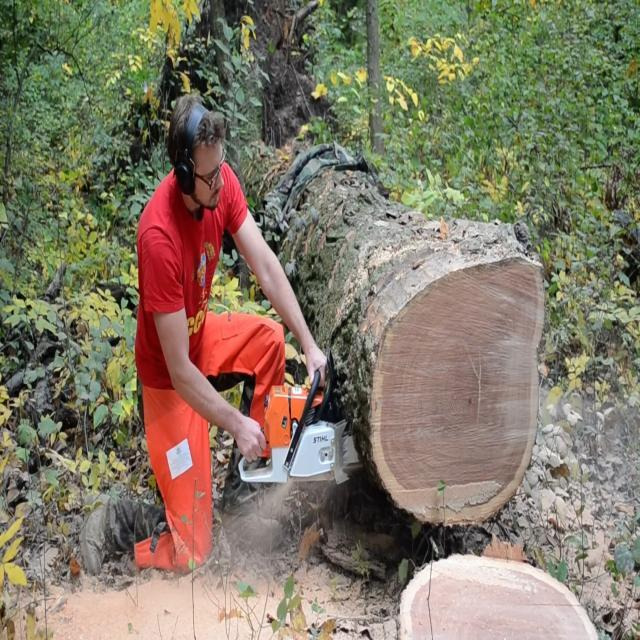Chainsaw: (226, 346, 366, 506)
